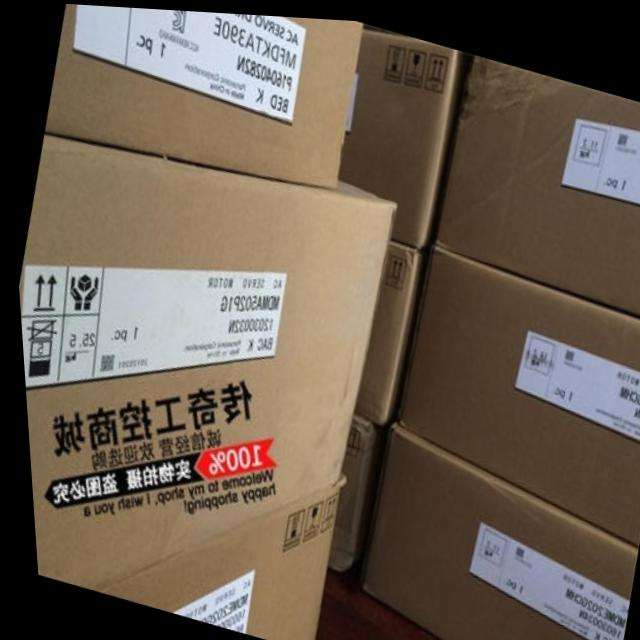box: (15, 132, 395, 589), (391, 238, 640, 539), (349, 419, 631, 640), (42, 3, 362, 183), (430, 47, 640, 310), (85, 470, 337, 640), (335, 25, 467, 245), (348, 234, 426, 421), (320, 411, 382, 568)
